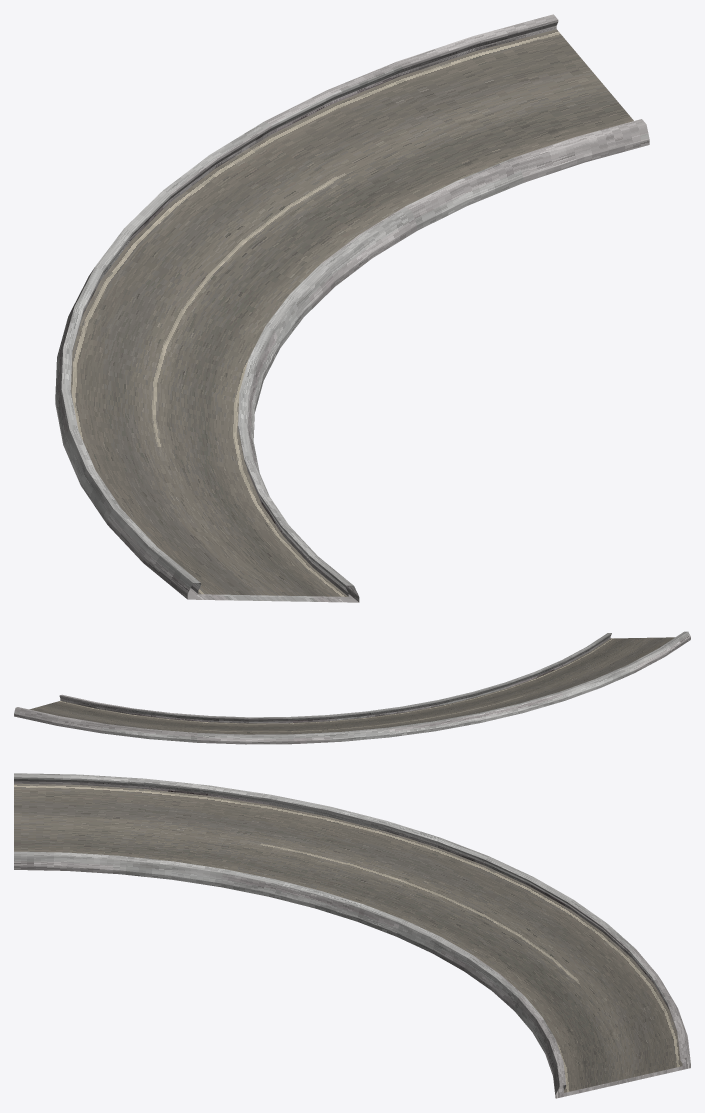
File: road-Turn-HalfBankedRight-HalfBankedRight-Even-Right-Size5.glb
The picture shows the model from 3 angles, top to bottom: view 1: azimuth 30°, elevation 25°; view 2: azimuth 150°, elevation 25°; view 3: azimuth 270°, elevation 25°; orthographic projection. The views are drawn at different scales.
Visible parts, largest first — view 1: road-Turn-HalfBankedRight-HalfBankedRight-Even-Right-Size5; view 2: road-Turn-HalfBankedRight-HalfBankedRight-Even-Right-Size5; view 3: road-Turn-HalfBankedRight-HalfBankedRight-Even-Right-Size5.
Boxes of the visible parts, x1,y1,x2,y2 form: road-Turn-HalfBankedRight-HalfBankedRight-Even-Right-Size5: (55,14,649,602); road-Turn-HalfBankedRight-HalfBankedRight-Even-Right-Size5: (14,631,690,744); road-Turn-HalfBankedRight-HalfBankedRight-Even-Right-Size5: (14,773,690,1098).
Bounding box in the file's own units: 5 × 0.3359 × 5.
Materials: 2 (2 with a texture image).
